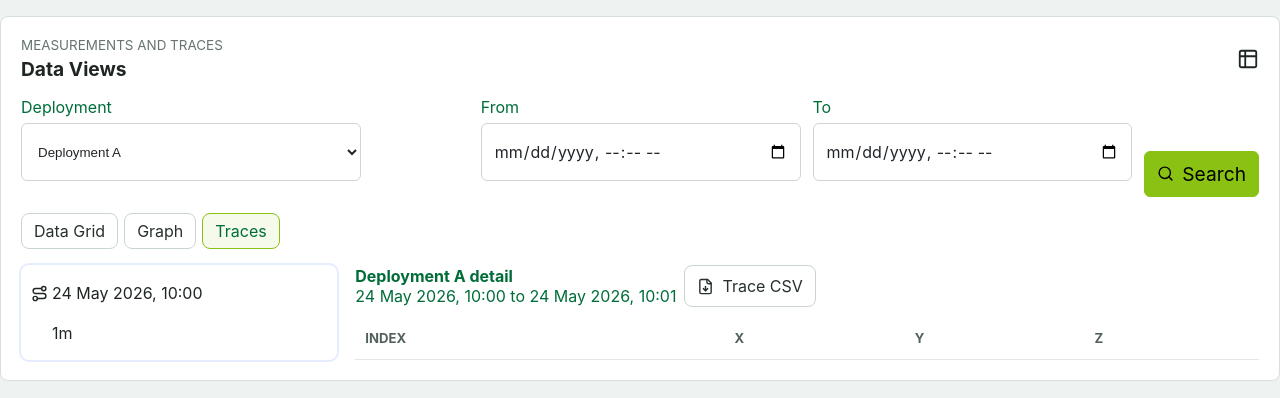
Scenario: Portal dashboard request ownership › does not reuse same-id trace detail across deployments
Expected: the heading "Deployment A detail" is shown, 355,266 -> 513,286
Select "Deployment B" in the dropdown labelled "Deployment" at x=191, y=152, box 21,123 -> 361,181
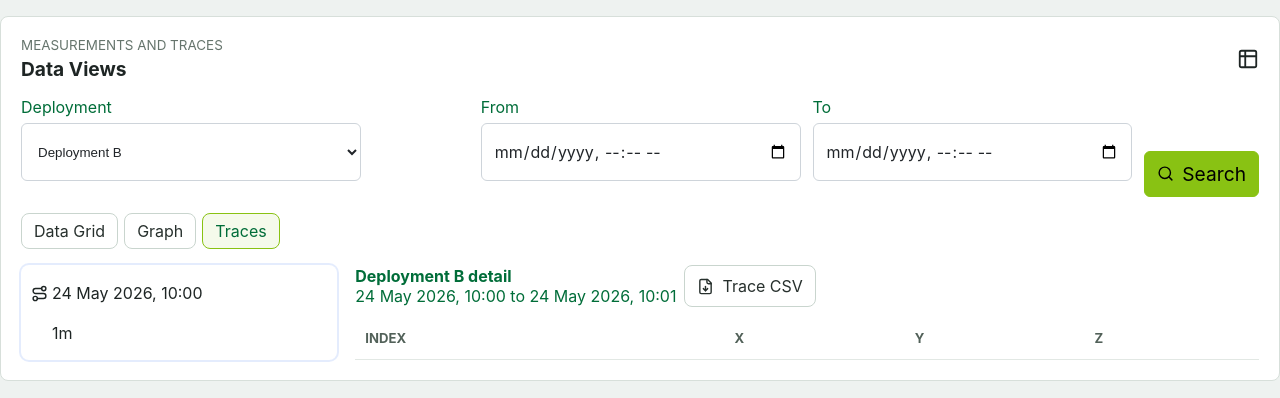
Expected: the heading "Deployment A detail" is gone
Expected: the heading "Deployment B detail" is shown, 355,266 -> 512,286
